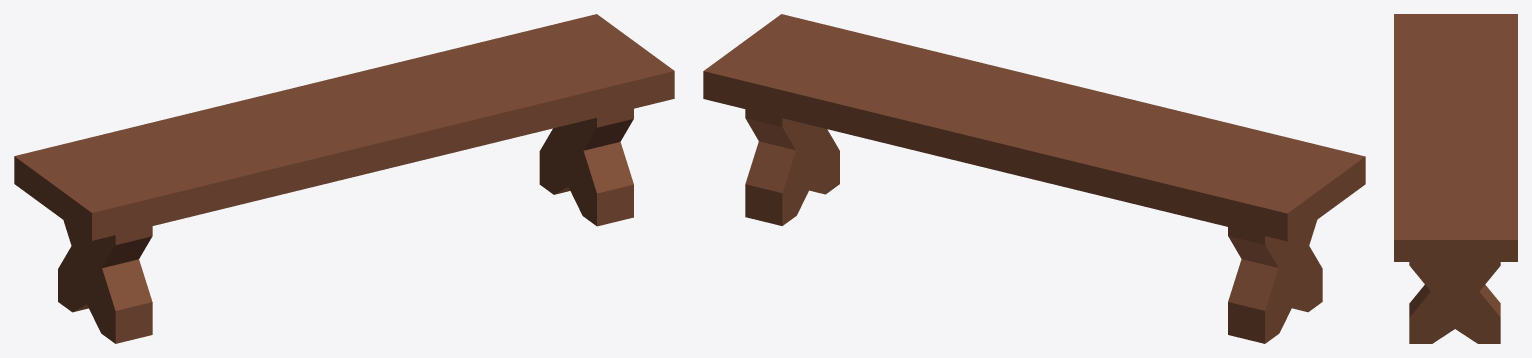
File: banch_LOW.fbx
3 renders of one model, left to right at view 1: azimuth 30°, elevation 25°; view 2: azimuth 150°, elevation 25°; view 3: azimuth 270°, elevation 25°, orthographic. The views are drawn at different scales.
Visible parts, largest first — view 1: banch.001; view 2: banch.001; view 3: banch.001.
Part boxes in pixels (x1=…): banch.001: x1=14, y1=14, x2=674, y2=343; banch.001: x1=703, y1=14, x2=1365, y2=343; banch.001: x1=1394, y1=14, x2=1517, y2=343.
Size of the model in its own units: 187 by 44.72 by 43.21.
